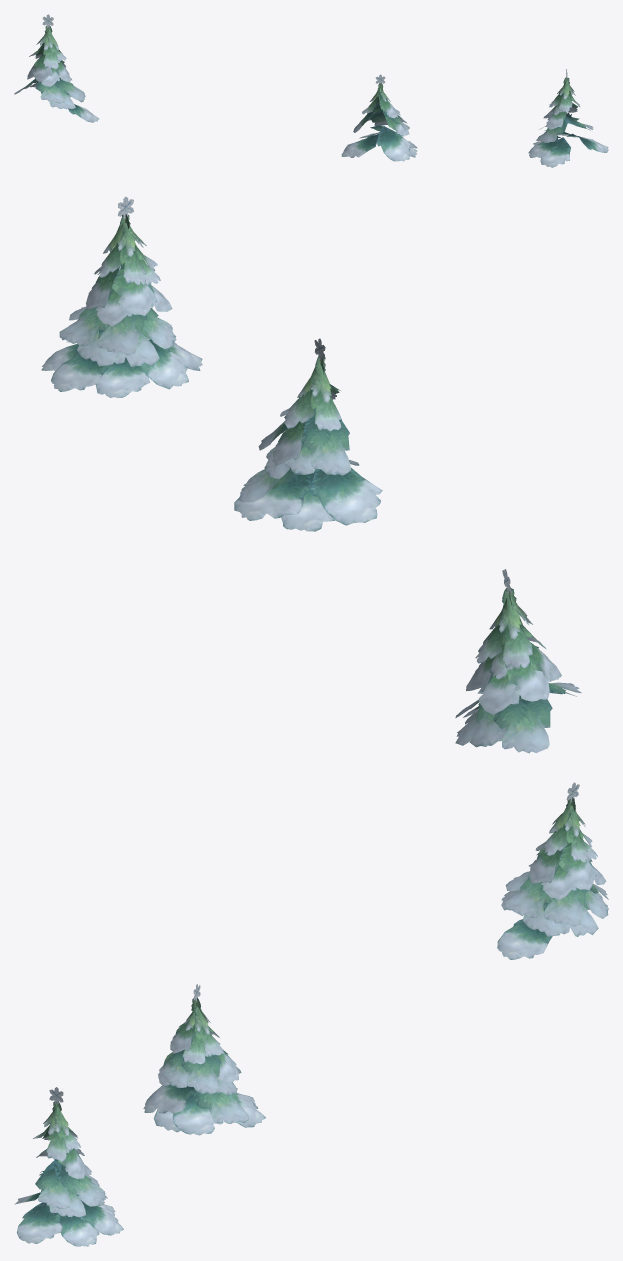
The model's file is pref_sm_beach_bk_winter_pointmol_longplant_R04_lv0.fbx.
3 views of the same model, one above another, from view 1: azimuth 30°, elevation 25°; view 2: azimuth 150°, elevation 25°; view 3: azimuth 270°, elevation 25° (orthographic). The views are drawn at different scales.
Visible parts, largest first — view 1: pref_sm_beach_bk_winter_pointmol_longplant_R04_lv0; view 2: pref_sm_beach_bk_winter_pointmol_longplant_R04_lv0; view 3: pref_sm_beach_bk_winter_pointmol_longplant_R04_lv0.
Boxes of the visible parts, box(x1,y1,x2,y2) form: pref_sm_beach_bk_winter_pointmol_longplant_R04_lv0: box(14, 14, 608, 167); pref_sm_beach_bk_winter_pointmol_longplant_R04_lv0: box(41, 196, 581, 753); pref_sm_beach_bk_winter_pointmol_longplant_R04_lv0: box(14, 782, 608, 1246).
Size of the model in its own units: 36.5 by 8.88 by 28.62.
